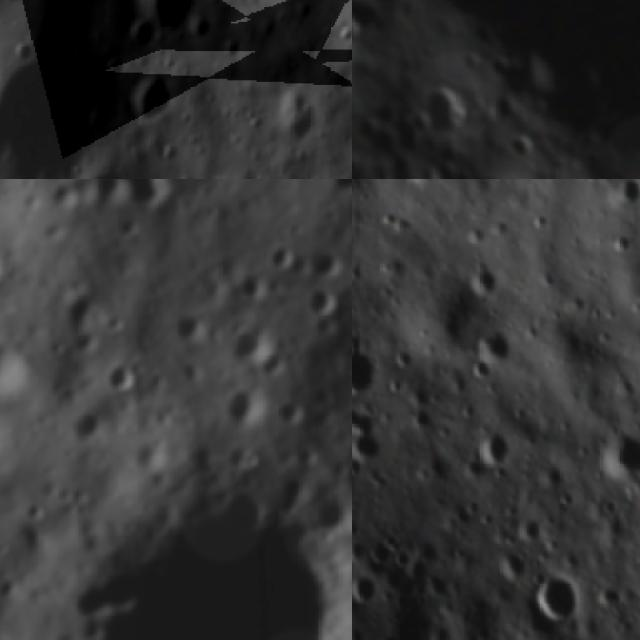crater: (73, 467, 352, 640), (407, 0, 640, 179), (0, 5, 108, 179), (122, 65, 180, 136), (534, 564, 585, 629), (419, 79, 467, 143), (352, 401, 394, 470), (229, 313, 283, 366), (597, 416, 640, 482), (136, 0, 205, 38), (222, 380, 270, 431), (101, 179, 172, 211), (352, 335, 388, 396), (489, 535, 526, 586), (478, 423, 515, 472), (312, 488, 352, 532), (0, 332, 26, 398), (476, 327, 520, 366), (97, 354, 138, 394), (466, 253, 504, 295), (64, 405, 108, 441), (310, 240, 350, 277), (168, 312, 206, 347), (125, 16, 159, 55), (276, 396, 310, 432), (363, 528, 396, 565), (306, 284, 342, 316), (265, 241, 300, 270), (352, 565, 376, 601), (411, 402, 437, 433), (393, 344, 420, 371), (615, 179, 640, 207), (352, 8, 366, 53)
